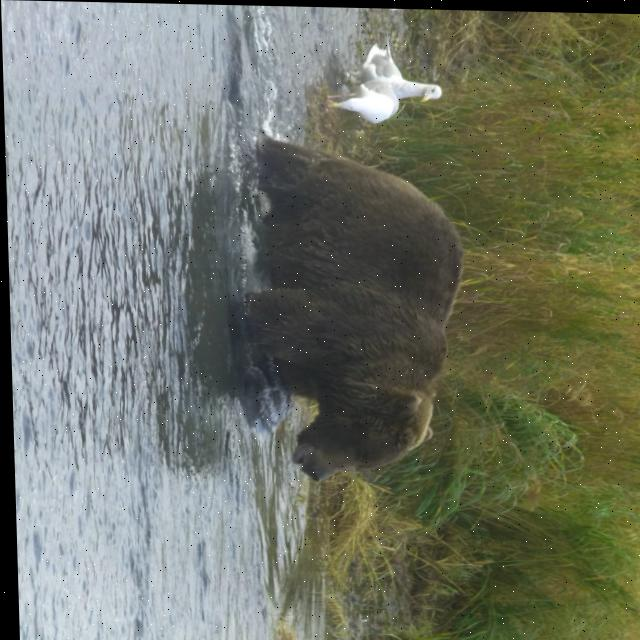bear face: (239, 138, 459, 482)
